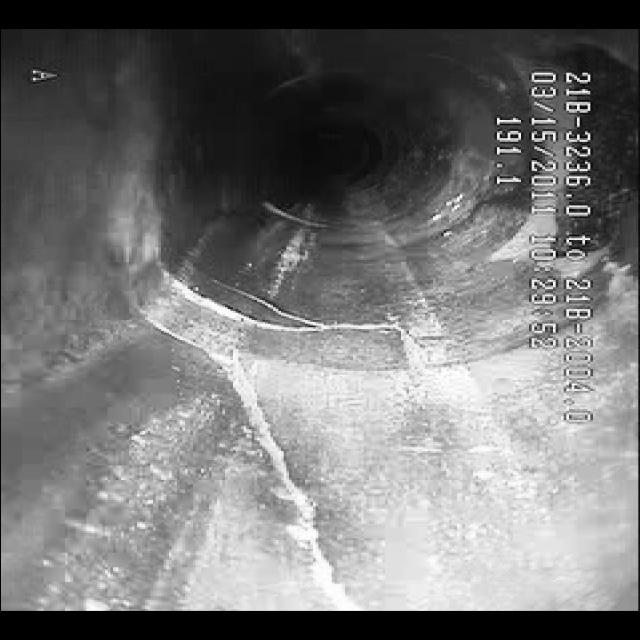Crack: (218, 392, 352, 588)
